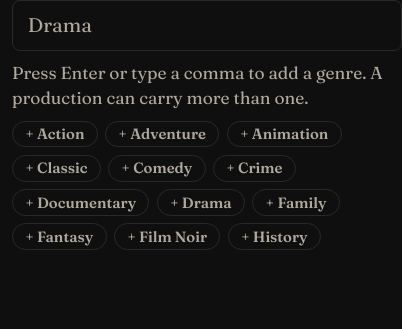
GenreInput › splits a pasted comma-separated list into separate genres
This screenshot has width=402, height=329.
Step 1. Type "Drama, Comedy" into the field → (207, 26), box [28, 11, 386, 41]
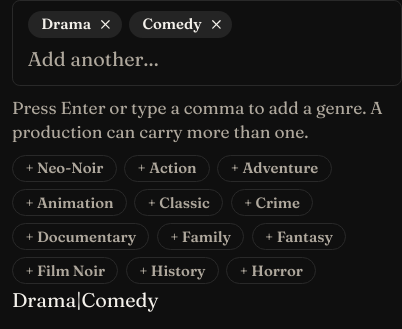
Check: the text with test id "stored" reads "Drama|Comedy", box [12, 288, 158, 312]
